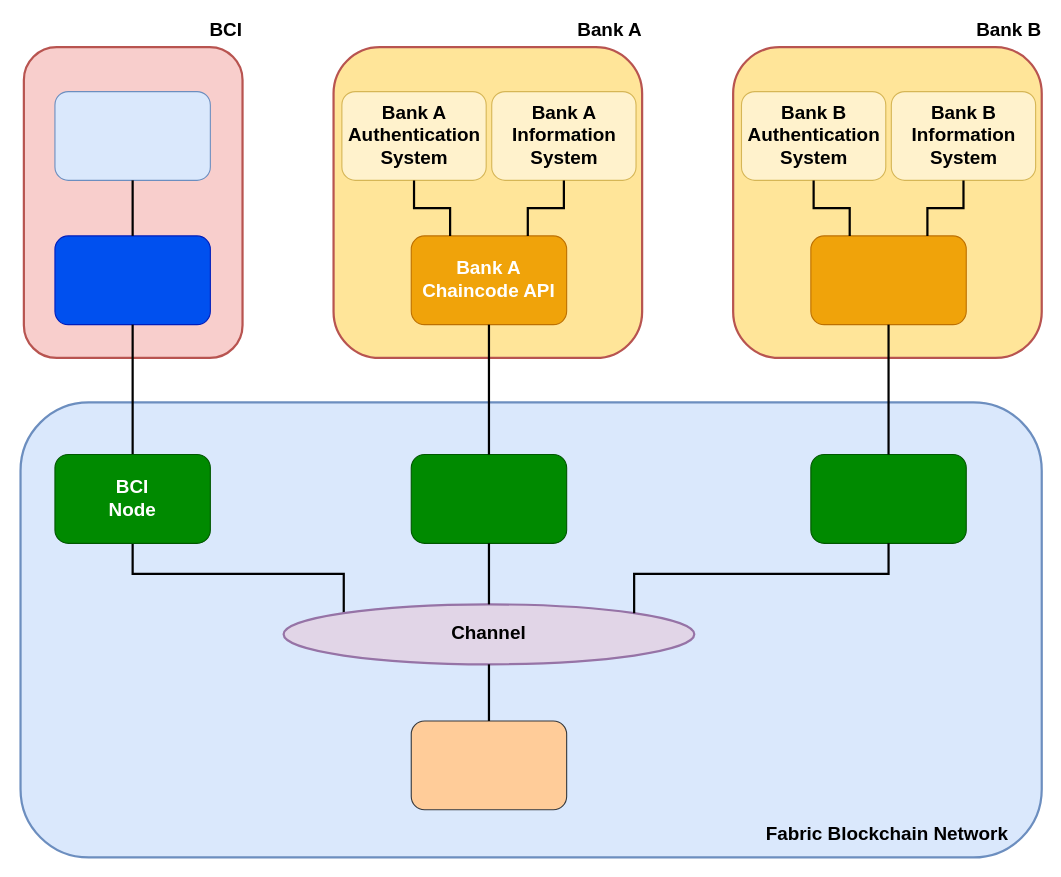
Some shapes in this 1061 by 877 pixel diagram are drawn without their labels. Here are the shapes that lost their labels. From the top down, the centre of each, then its label:
At point 132,135: "eBC Web Application".
At point 132,280: "BCI Chaincode API".
At point 888,280: "Bank B Chaincode API".
At point 488,498: "Bank A Node".
At point 888,498: "Bank B Node".
At point 488,765: "Orderer Node".
